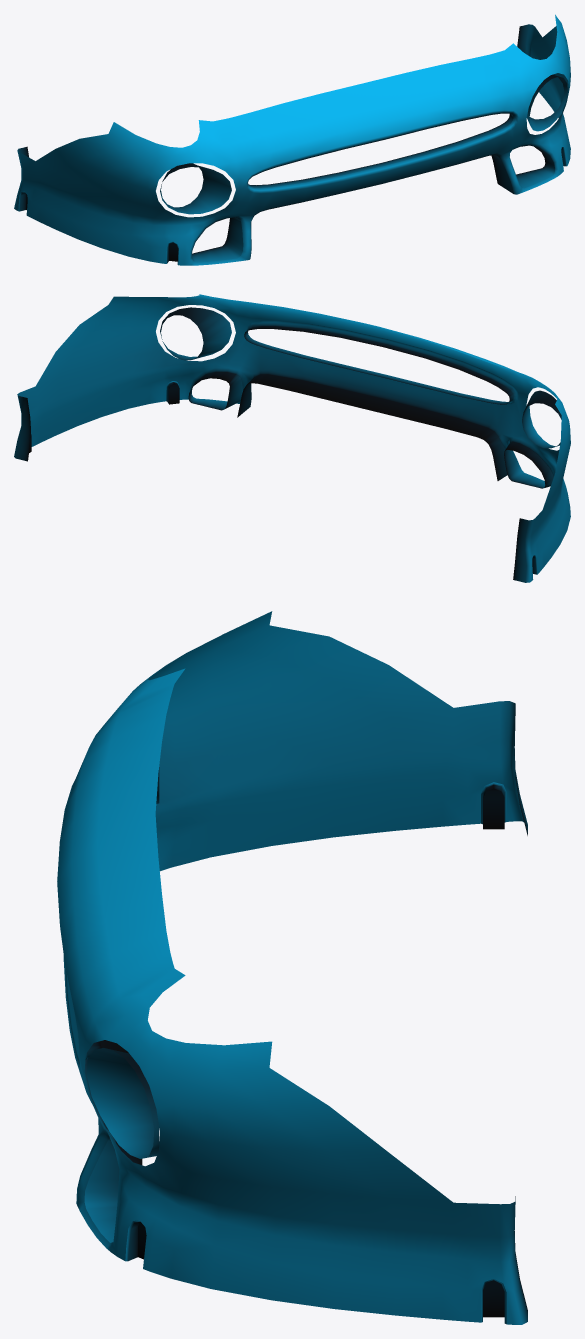
File: MC_XJ220s_FB01_Duco.fbx
The picture shows the model from 3 angles, top to bottom: view 1: azimuth 30°, elevation 25°; view 2: azimuth 150°, elevation 25°; view 3: azimuth 270°, elevation 25°; orthographic projection. The views are drawn at different scales.
Parts seen in each view (by area): view 1: MC_XJ220s_FB01_Duco; view 2: MC_XJ220s_FB01_Duco; view 3: MC_XJ220s_FB01_Duco.
Part boxes in pixels (x1,y1,x2,y2): MC_XJ220s_FB01_Duco: (14,14,570,265); MC_XJ220s_FB01_Duco: (14,294,570,582); MC_XJ220s_FB01_Duco: (57,611,527,1324).
Size of the model in its own units: 194 by 46.53 by 76.59.
